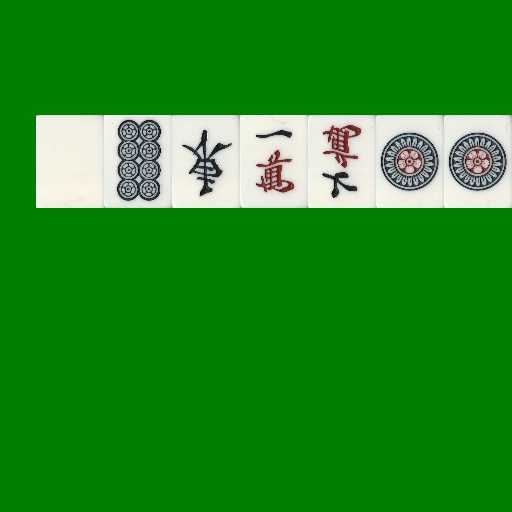1m: (240, 115, 308, 208)
1p: (376, 115, 444, 208), (444, 115, 512, 208)
7m: (308, 115, 376, 208)
8p: (104, 115, 172, 208)
east: (172, 115, 240, 208)
white: (36, 115, 104, 208)
